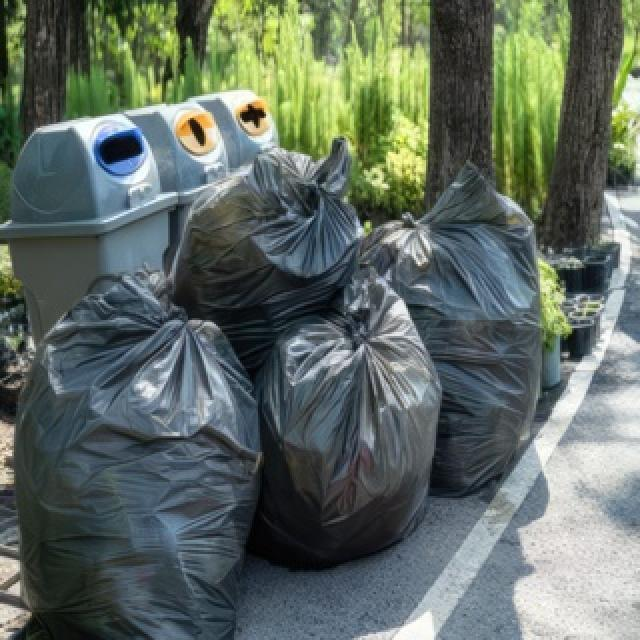Trashbag: (0, 285, 245, 640), (233, 299, 454, 556), (183, 157, 351, 299), (397, 206, 540, 296)
